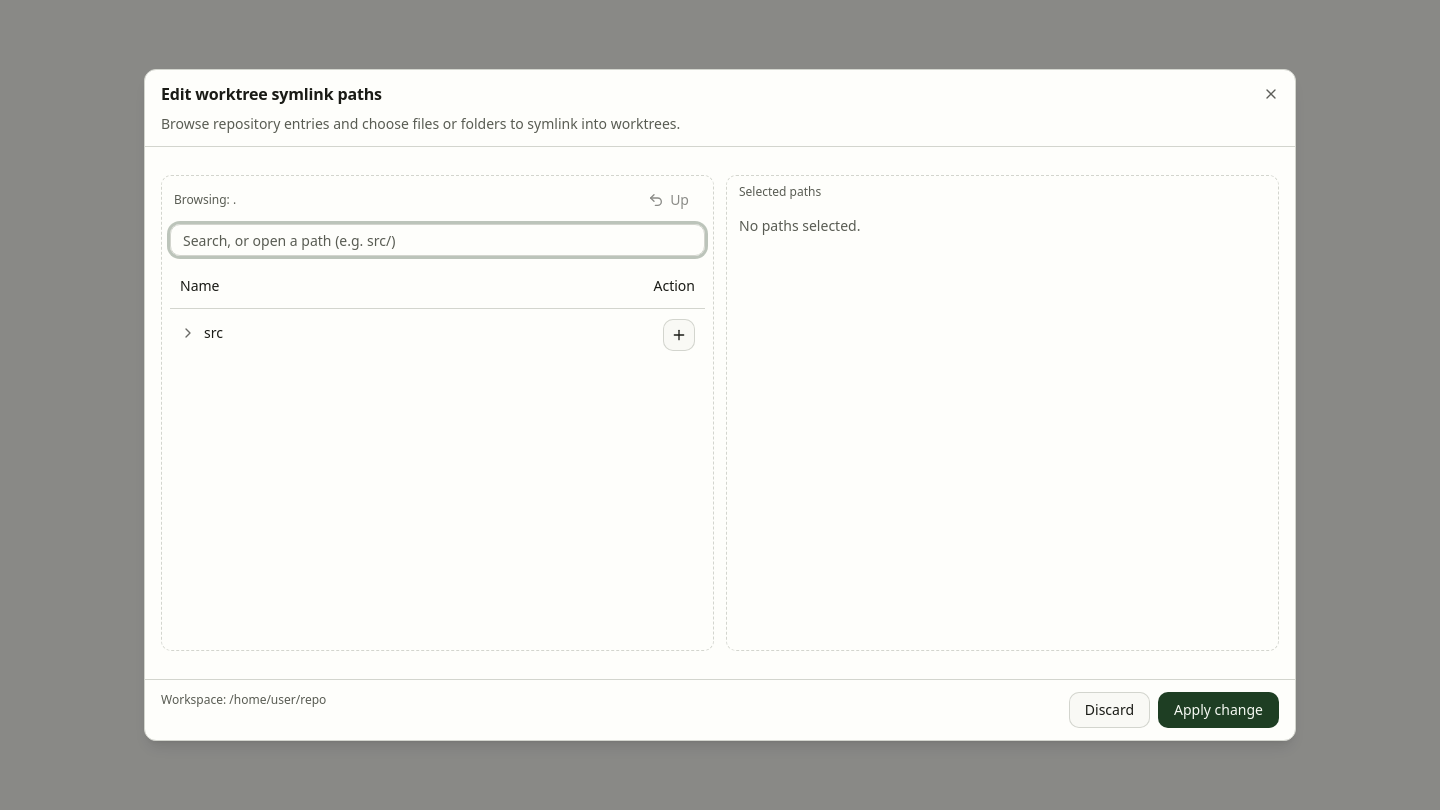
Scenario: WorktreeSymlinkPathsModal › filters within a directory typed as a relative path
The image size is (1440, 810).
Expected: the text "src" is shown, [204,323,223,343]
Type "src/index" into the field named "Search entries" at (438, 240), box [170,224,705,256]
Wait 300 ms
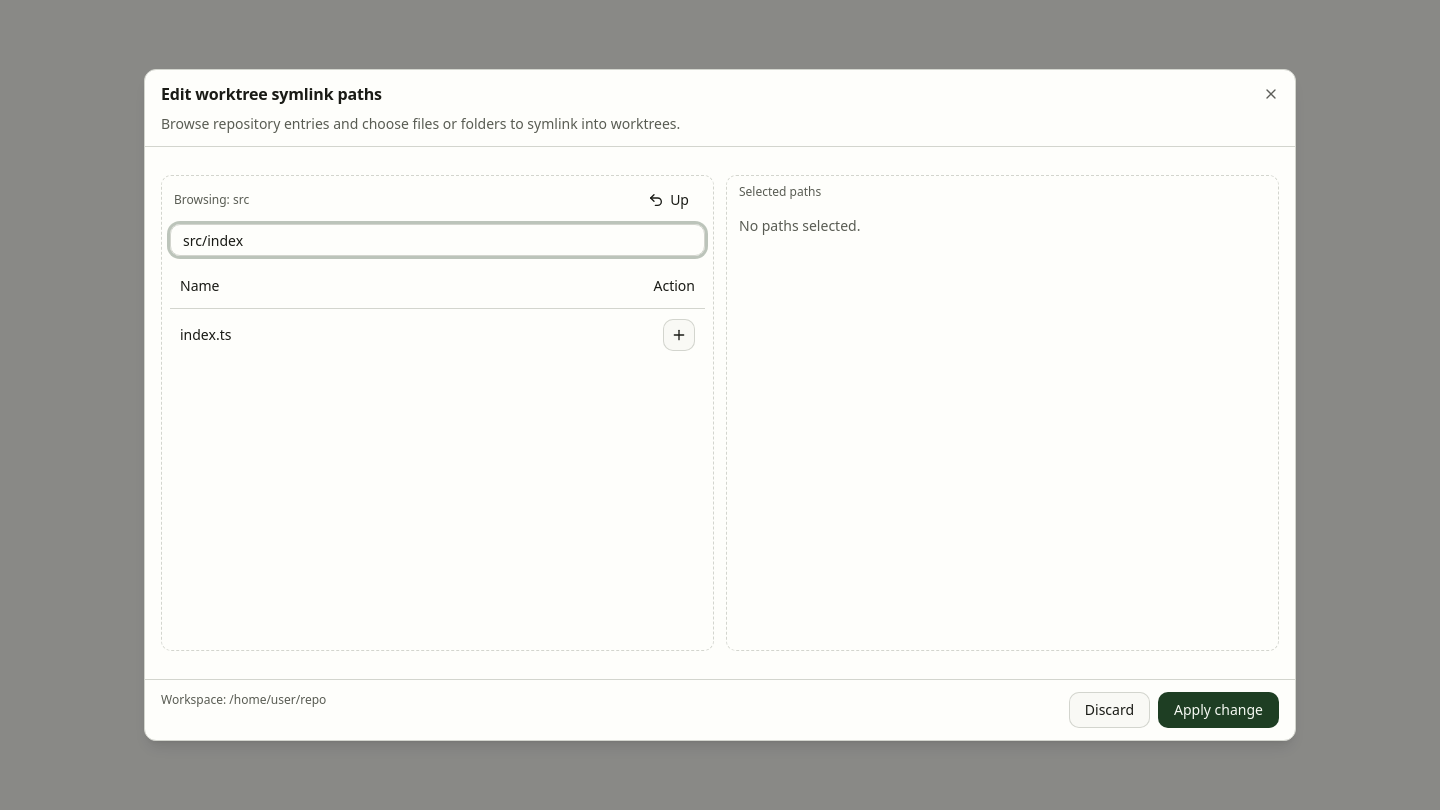
Expected: the text "index.ts" is shown, [180,324,231,344]
